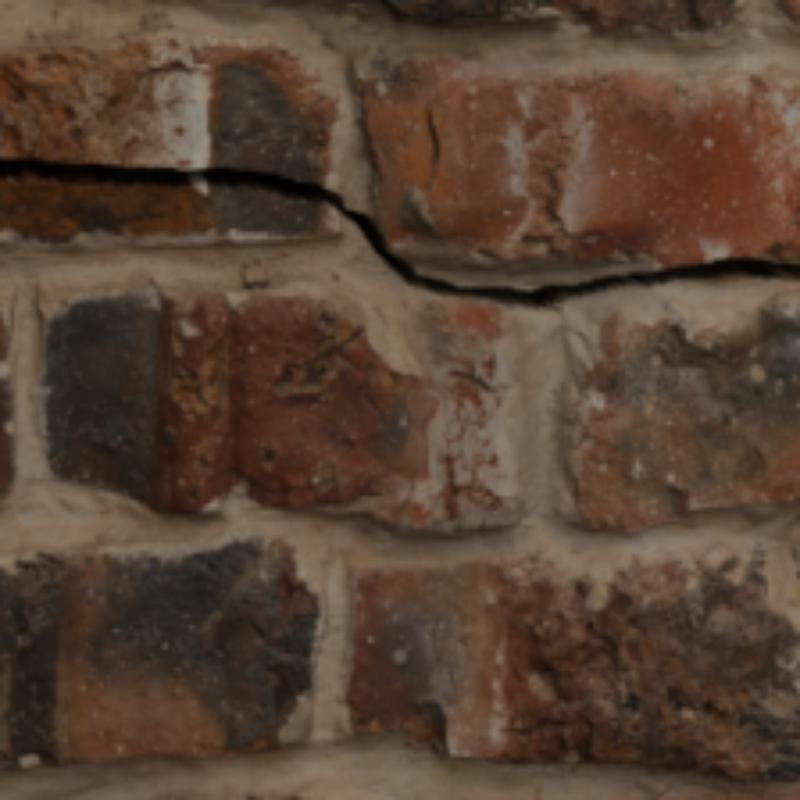pothole: (0, 157, 796, 304)
